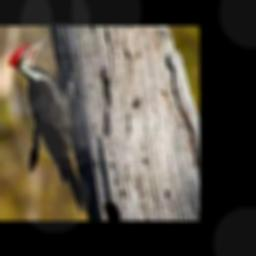Woodpecker: (8, 34, 87, 213)
